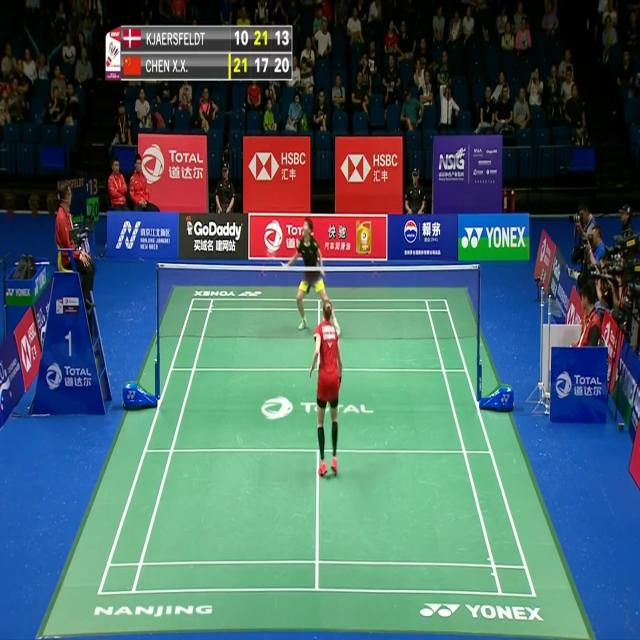Player1: (307, 298, 346, 481)
Player2: (283, 216, 341, 338)
